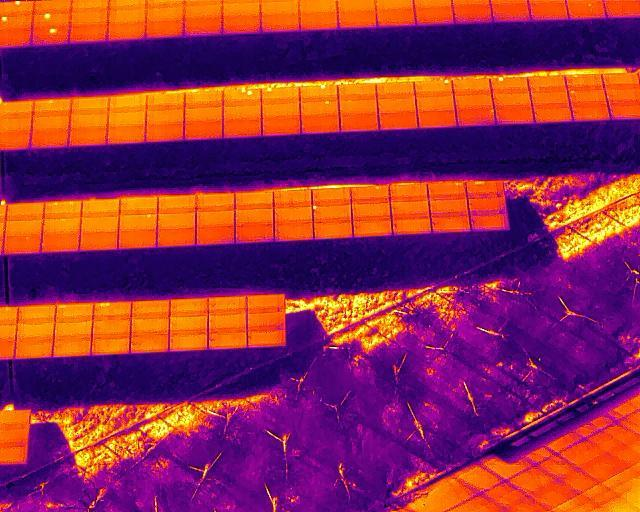Cell: (565, 0, 607, 19), (31, 27, 70, 46), (350, 186, 388, 204), (119, 215, 157, 233), (428, 183, 465, 200), (491, 77, 529, 93), (33, 100, 71, 116), (313, 206, 351, 222), (262, 89, 299, 105), (300, 85, 338, 100), (415, 81, 453, 96), (300, 101, 338, 116), (32, 13, 70, 27), (0, 14, 31, 30), (0, 0, 32, 15)
Cell-Multi: (93, 302, 130, 319), (223, 91, 260, 107), (44, 202, 81, 218)
No-Anomaly: (528, 0, 570, 21), (338, 10, 378, 31), (490, 2, 531, 22), (413, 6, 454, 25), (453, 4, 494, 23), (376, 8, 416, 27), (208, 330, 247, 349), (299, 13, 338, 32), (274, 222, 313, 241), (3, 234, 40, 254), (456, 107, 493, 127), (15, 339, 53, 358), (53, 337, 91, 356), (130, 333, 168, 352), (170, 331, 208, 350), (42, 234, 80, 253), (208, 295, 246, 314), (197, 192, 235, 211), (81, 231, 117, 251), (92, 335, 129, 354), (223, 16, 260, 35), (533, 105, 572, 123), (417, 111, 456, 129), (247, 329, 285, 347), (208, 313, 246, 331), (235, 225, 273, 243), (197, 227, 235, 245), (157, 229, 195, 247), (261, 16, 299, 34), (340, 113, 378, 131), (235, 193, 273, 211), (170, 315, 207, 333), (247, 294, 284, 312), (120, 197, 157, 215), (300, 116, 339, 133), (56, 304, 92, 322), (18, 305, 54, 323), (71, 97, 107, 115), (184, 20, 222, 37), (145, 22, 183, 39), (312, 189, 350, 206), (146, 125, 184, 142), (379, 113, 417, 130), (235, 210, 273, 227), (262, 119, 300, 136), (390, 184, 428, 201), (352, 203, 390, 220), (494, 108, 532, 125), (571, 104, 609, 121), (605, 0, 640, 18), (108, 23, 145, 40), (274, 191, 311, 208), (468, 198, 505, 215), (6, 204, 43, 221), (492, 92, 531, 108), (392, 218, 431, 234), (274, 207, 313, 223), (353, 221, 392, 237), (415, 95, 454, 111), (247, 312, 283, 329), (31, 130, 67, 147), (92, 320, 130, 336), (454, 93, 492, 109), (118, 232, 156, 248), (530, 90, 568, 106), (565, 74, 603, 90), (453, 79, 491, 95), (260, 0, 298, 16), (70, 11, 108, 27), (184, 4, 222, 20), (431, 217, 469, 233), (109, 96, 147, 112), (107, 128, 145, 144), (377, 97, 415, 113), (222, 122, 260, 138), (108, 112, 146, 128), (197, 211, 235, 227), (391, 202, 429, 218), (158, 213, 196, 229), (82, 200, 120, 216), (314, 222, 352, 238), (184, 124, 222, 140), (430, 200, 468, 216), (131, 316, 168, 332), (170, 299, 207, 315), (338, 84, 375, 100), (568, 89, 605, 105), (70, 28, 107, 44), (223, 2, 260, 18), (68, 129, 105, 145), (158, 196, 195, 212), (43, 218, 80, 234), (17, 323, 53, 339), (55, 321, 91, 337), (185, 92, 221, 108), (109, 8, 145, 24), (471, 215, 507, 231), (5, 220, 41, 236), (185, 108, 221, 124), (376, 83, 414, 98), (146, 8, 184, 23), (147, 95, 185, 110), (223, 106, 261, 121), (339, 99, 377, 114), (0, 130, 30, 149), (528, 77, 565, 92), (146, 110, 183, 125), (81, 217, 118, 232), (70, 115, 107, 130), (262, 104, 299, 119), (606, 88, 640, 104), (132, 302, 168, 317), (603, 74, 639, 89), (0, 30, 30, 48), (33, 116, 68, 131), (0, 117, 31, 131), (0, 103, 32, 116)
Unclassified: (466, 179, 502, 198)
